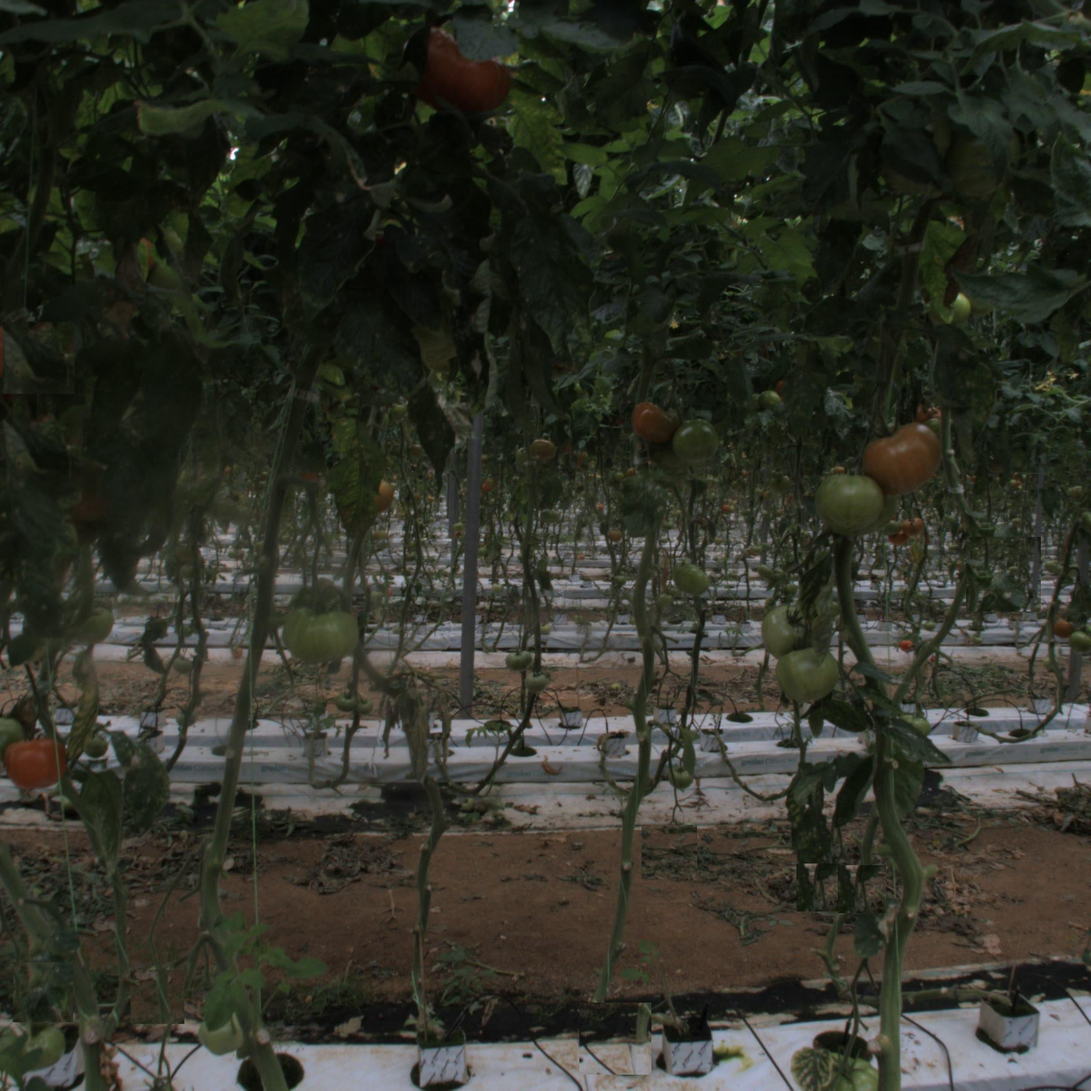fully-ripe: (425, 18, 517, 110), (858, 410, 941, 493), (8, 732, 65, 789), (636, 404, 675, 443)
unripe: (286, 590, 361, 664), (817, 469, 883, 535), (764, 604, 820, 661), (780, 646, 836, 703), (673, 418, 721, 466)
